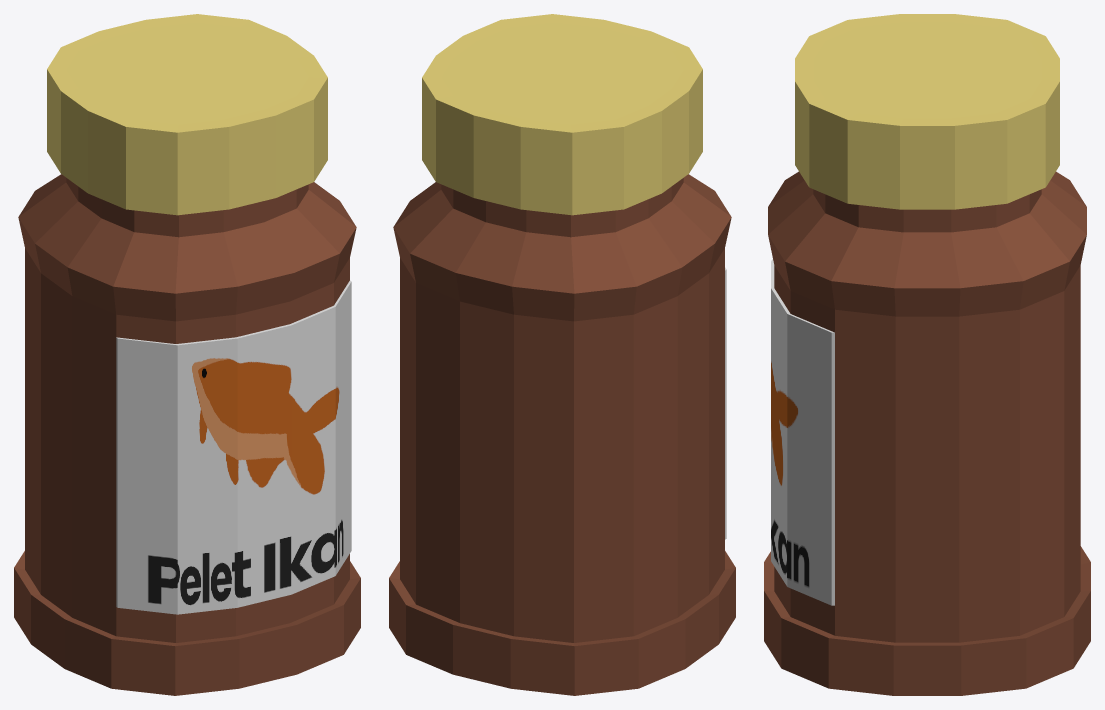
File: Pelet Ikan.fbx
3 views of the same model, side by side, from view 1: azimuth 30°, elevation 25°; view 2: azimuth 150°, elevation 25°; view 3: azimuth 270°, elevation 25° (orthographic).
Parts seen in each view (by area): view 1: Cube.002, Cube.003; view 2: Cube.002, Cube.003; view 3: Cube.002, Cube.003.
Boxes of the visible parts, x1,y1,x2,y2 form: Cube.002: (14, 14, 360, 695); Cube.003: (116, 280, 351, 614); Cube.002: (389, 14, 735, 695); Cube.003: (725, 267, 726, 539); Cube.002: (764, 14, 1090, 695); Cube.003: (771, 259, 834, 605).
Size of the model in its own units: 15.14 by 28.46 by 15.14.
Materials: 3 (1 with a texture image).
